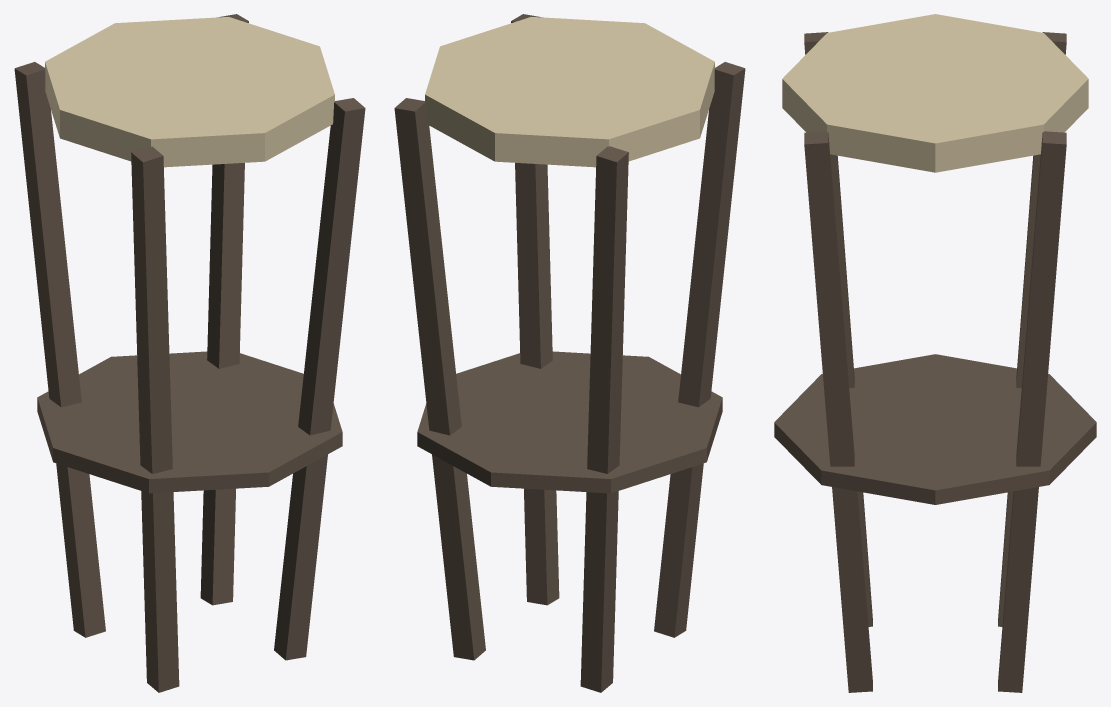
Rendered from bar_stool.glb.
The picture shows the model from 3 angles, left to right: view 1: azimuth 30°, elevation 25°; view 2: azimuth 150°, elevation 25°; view 3: azimuth 270°, elevation 25°; orthographic projection. The views are drawn at different scales.
Parts seen in each view (by area): view 1: bar_stool; view 2: bar_stool; view 3: bar_stool.
Boxes of the visible parts, x1,y1,x2,y2 form: bar_stool: (14, 14, 365, 692); bar_stool: (394, 14, 745, 692); bar_stool: (774, 14, 1096, 692).
Size of the model in its own units: 0.4 by 0.7902 by 0.4.
